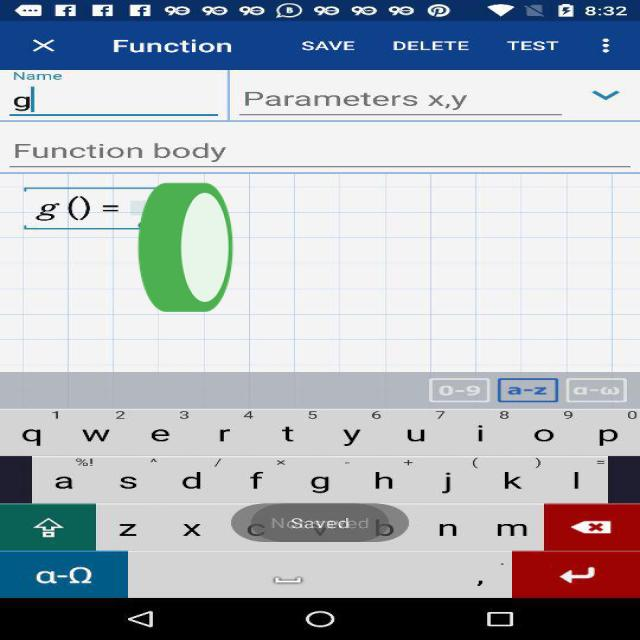social proof: (134, 134, 237, 372)
